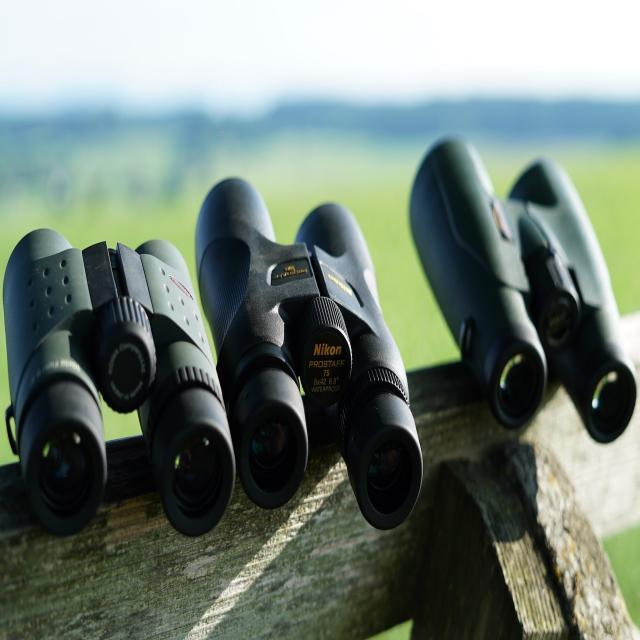Binocular: (184, 162, 426, 538), (400, 126, 640, 445)
